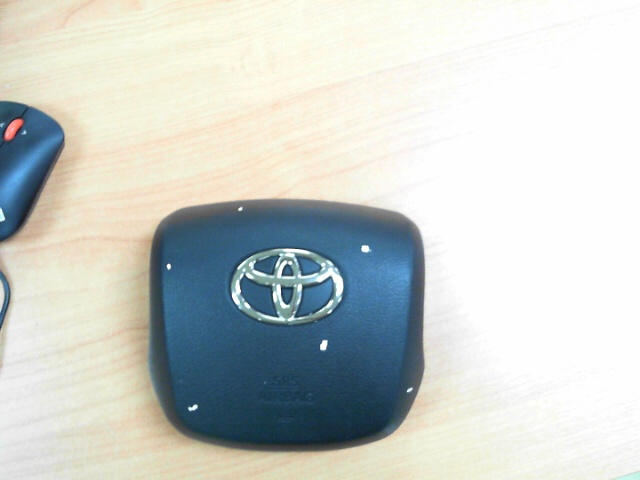Airbag: (319, 339, 329, 353), (360, 243, 372, 254), (187, 404, 199, 412), (165, 263, 173, 271), (406, 386, 414, 394), (237, 207, 243, 212)
